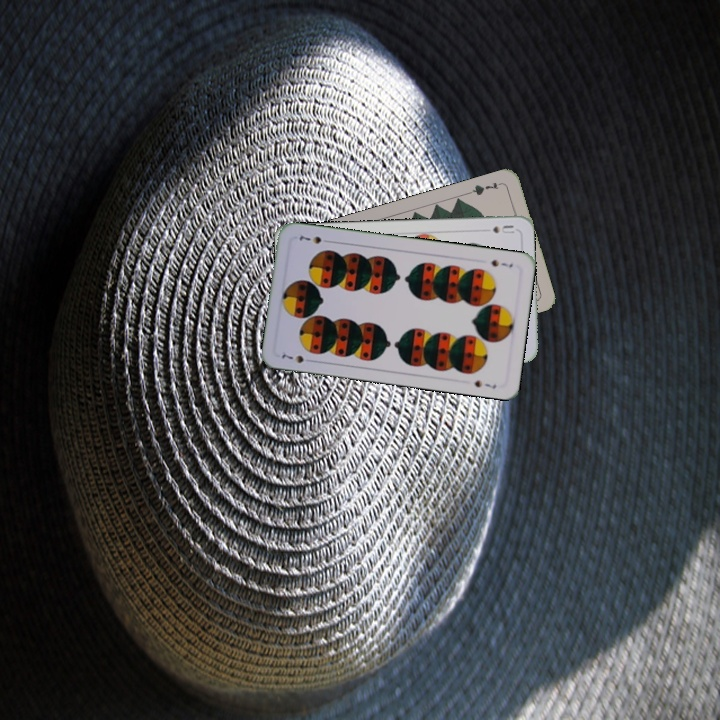G7: (465, 178, 505, 198)
S7: (278, 350, 316, 366), (487, 256, 515, 270)
SU: (477, 221, 517, 236)
